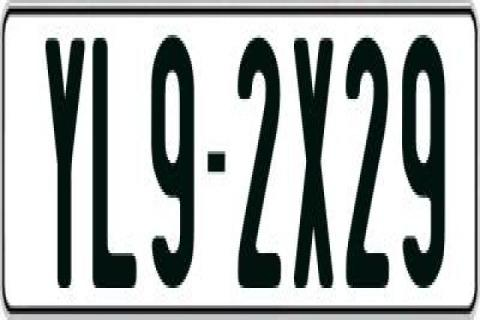0: (402, 29, 452, 282), (152, 32, 199, 300), (234, 29, 278, 297), (342, 29, 386, 294)
L: (90, 38, 136, 294)
X: (293, 32, 333, 282)
Y: (42, 38, 88, 297)
